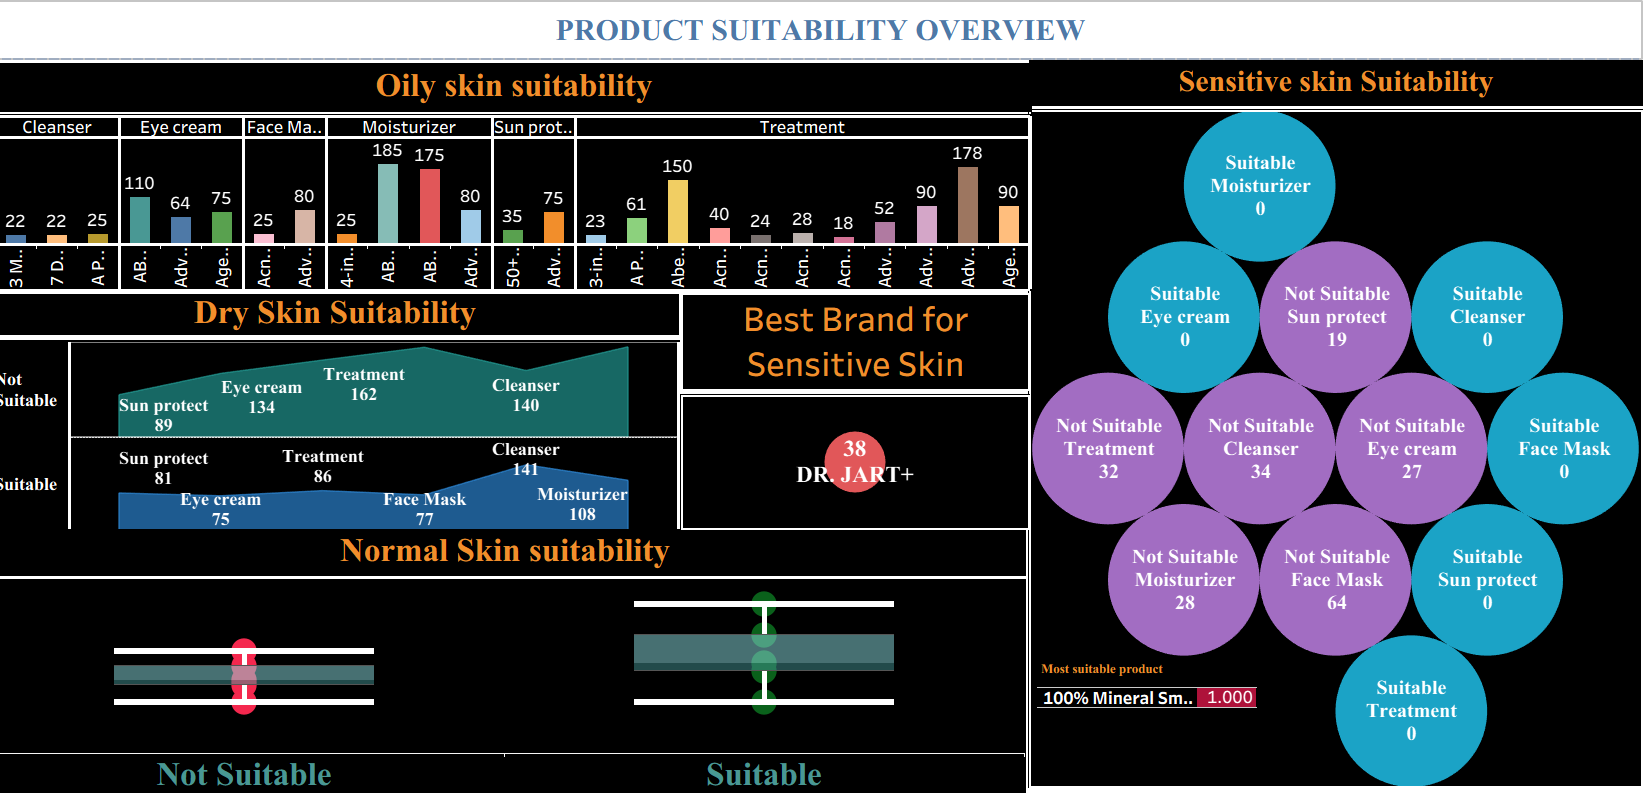

The page's visual inventory and layout, read from the dashboard file:
{"tool":"tableau","page":{"name":"Dashboard 2","canvas":[1000,1000],"units":"permille","ordinal":1},"visuals":[{"type":"title","box":[4.8,10,990.3,69.9]},{"type":"worksheet","title":"sensitiveskin","mark":"Circle","box":[625.1,82.4,371.4,908.9]},{"type":"worksheet","title":"oily skin","mark":"Bar","rows":["Price"],"cols":["Label","Name"],"box":[1.2,86.1,626.2,284.6]},{"type":"worksheet","title":"kpi3","mark":"Pie","box":[415.4,373.3,211.5,295.9]},{"type":"worksheet","title":"kpi4","mark":"Square","rows":["Name"],"box":[630.9,827.7,272.4,136.1]}]}

Visuals, with their boxes on the dashboard's canvas, which has no fixed pixel size, in thousandths of its width and height (x1, y1, x2, y2). These are canvas units, not pixel positions in the 1649x793 screenshot, which may show the page scaled, cropped or inside an application window:
title: {"left": 5, "top": 10, "right": 995, "bottom": 80}
"sensitiveskin" worksheet (Circle marks): {"left": 625, "top": 82, "right": 996, "bottom": 991}
"oily skin" worksheet (Bar marks): {"left": 1, "top": 86, "right": 627, "bottom": 371}
"kpi3" worksheet (Pie marks): {"left": 415, "top": 373, "right": 627, "bottom": 669}
"kpi4" worksheet (Square marks): {"left": 631, "top": 828, "right": 903, "bottom": 964}
